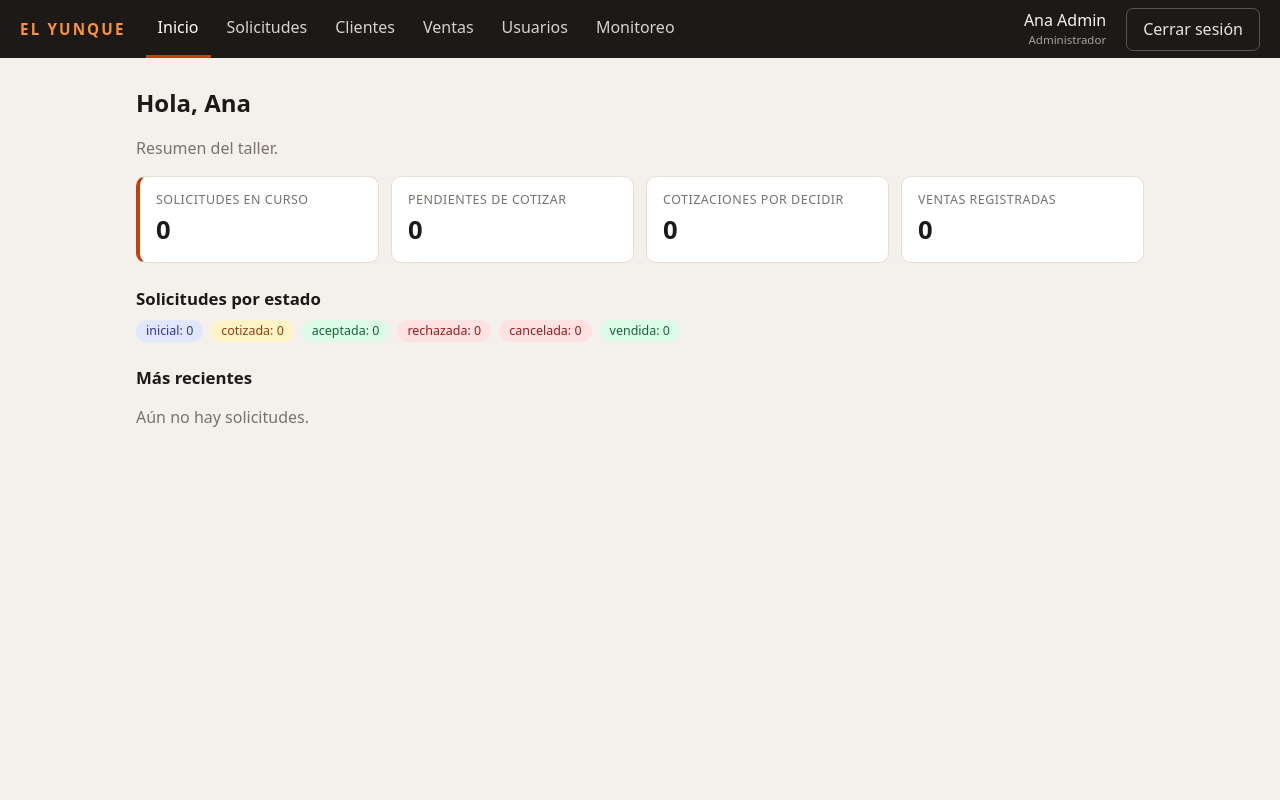
Test: App: rutas y roles › el Administrador ve todo el menú y puede cerrar sesión
Expected: the link "Inicio" is shown, [146,0,210,58]
Expected: the link "Solicitudes" is shown, [226,16,307,38]
Click the button "Cerrar sesión" at (1193, 29), box [1126,8,1260,51]
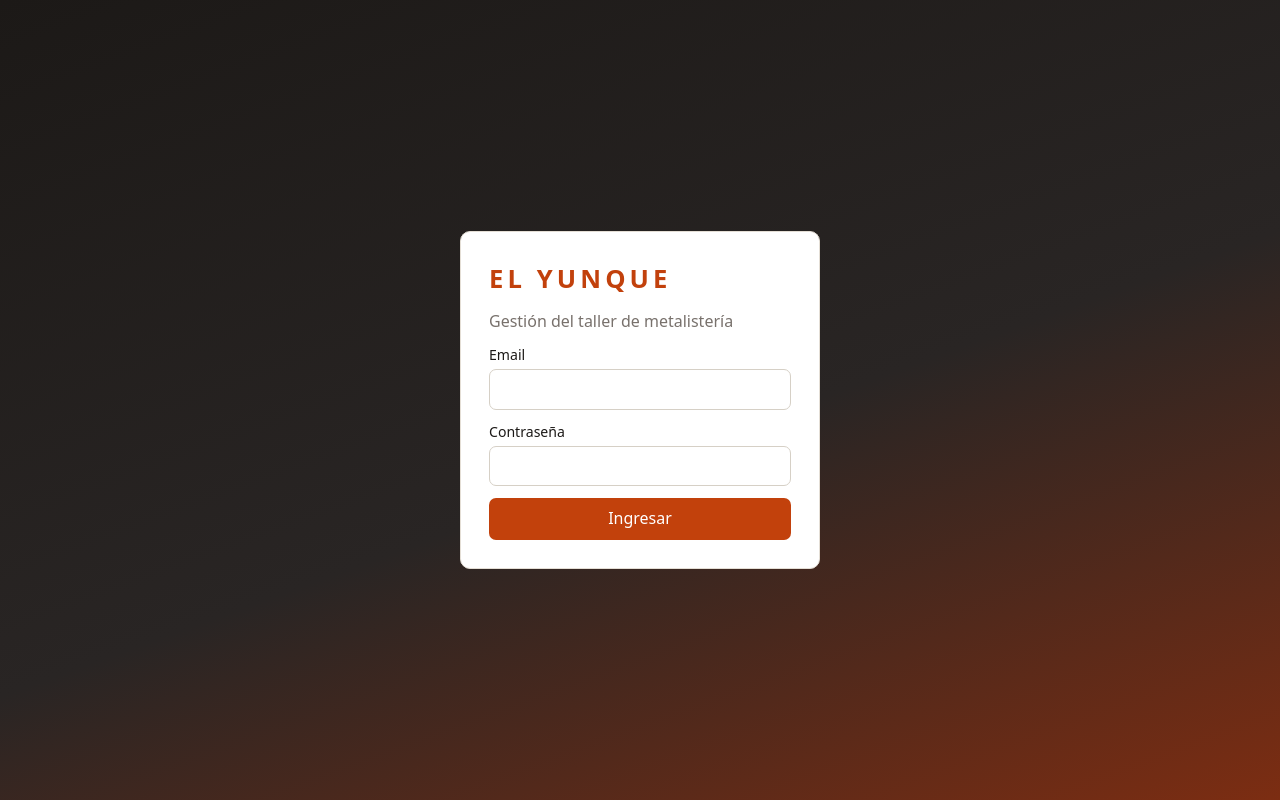
Expected: the button "Ingresar" is shown, [489,498,791,540]
